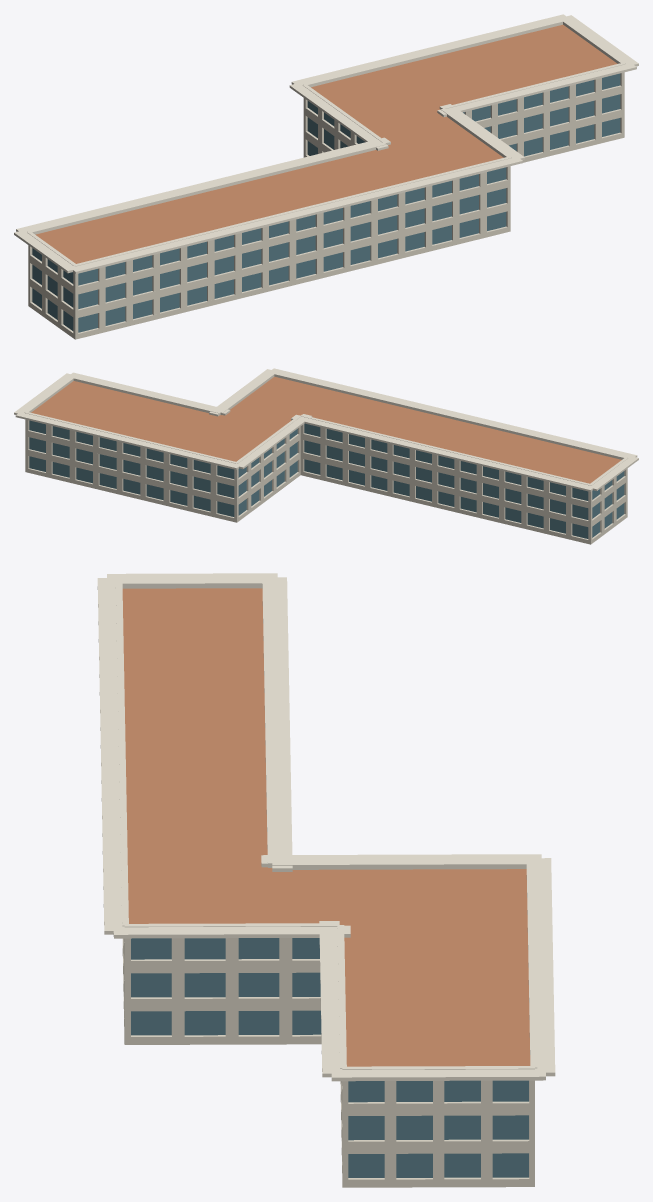
The model's file is pharma.far.glb.
3 renders of one model, top to bottom at view 1: azimuth 30°, elevation 25°; view 2: azimuth 150°, elevation 25°; view 3: azimuth 270°, elevation 25°, orthographic. The views are drawn at different scales.
Visible parts, largest first — view 1: roof, wall, glass, trim; view 2: roof, wall, glass, trim; view 3: roof, trim, wall, glass.
Part boxes in pixels (left/top/right/bottom): roof: left=35, top=24, right=617, bottom=263; wall: left=28, top=72, right=624, bottom=339; glass: left=32, top=73, right=620, bottom=332; trim: left=14, top=14, right=638, bottom=273; roof: left=31, top=376, right=621, bottom=483; wall: left=25, top=419, right=627, bottom=544; glass: left=29, top=420, right=624, bottom=538; trim: left=14, top=368, right=638, bottom=491; roof: left=122, top=588, right=530, bottom=1066; trim: left=97, top=573, right=555, bottom=1081; wall: left=122, top=938, right=534, bottom=1187; glass: left=131, top=938, right=528, bottom=1177.
Size of the model in its own units: 88.32 by 9.74 by 33.87.
